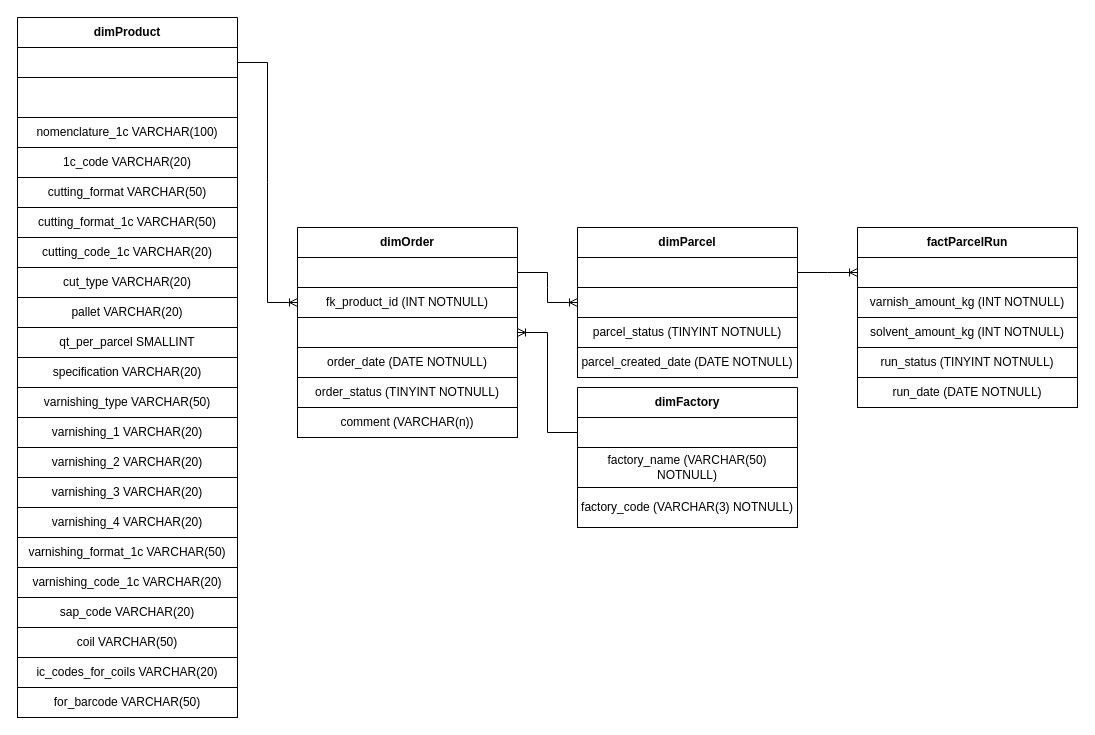
This 1095x735 diagram has some shape labels left out. Here are the shapes that lost their labels. From the top down, the centre of each, then its label:
(127,62): product_id INT NOTNULL
(127,97): product_name VARCHAR(50) NOTNULL
(407,272): order_id (INT NOTNULL AUTO)
(687,272): parcel_id (VARCHAR(20) NOTNULL AUTO)
(967,272): fk_parcel_id (VARCHAR(20) NOTNULL)
(687,302): fk_order_id (INT NOTNULL)
(407,332): fk_factory_id (INT NOTNULL)
(687,432): factory_id (INT NOTNULL AUTO)
